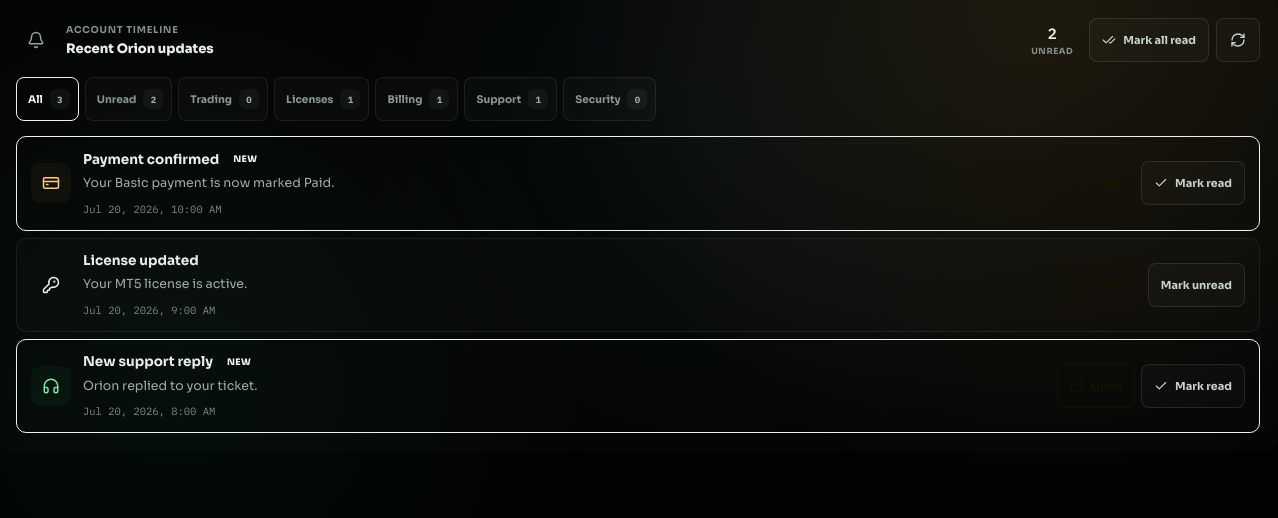
Test: Portal Notification Center › marks every update read and shows visible success feedback
Click the button "Mark all read". click: click(1149, 40)
box: [1089, 18, 1209, 62]
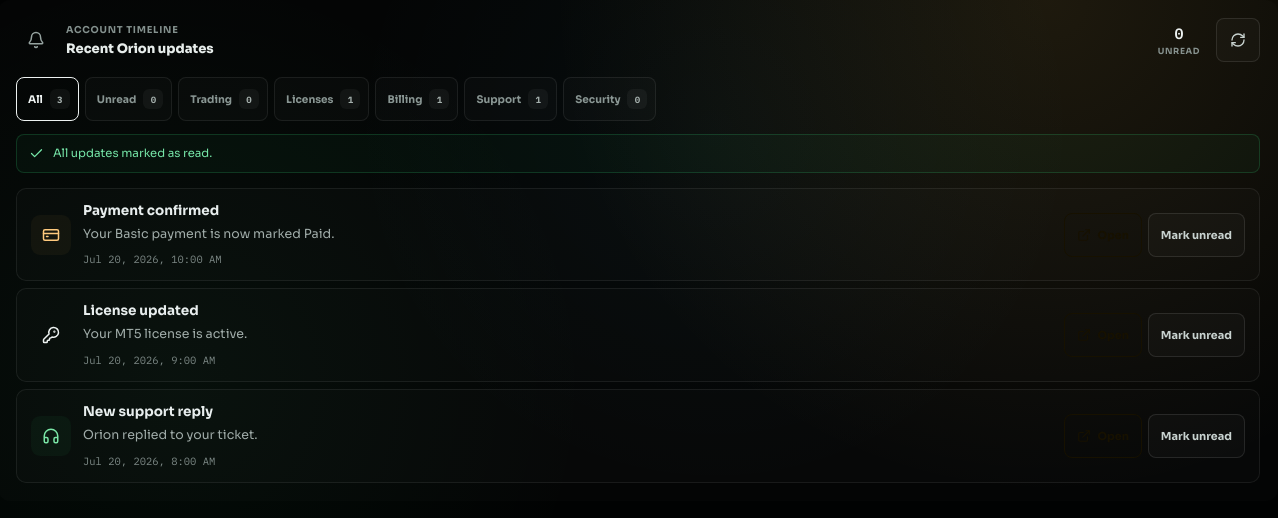
expect the text "All updates marked as read." is shown: met, box [16, 134, 1260, 173]
